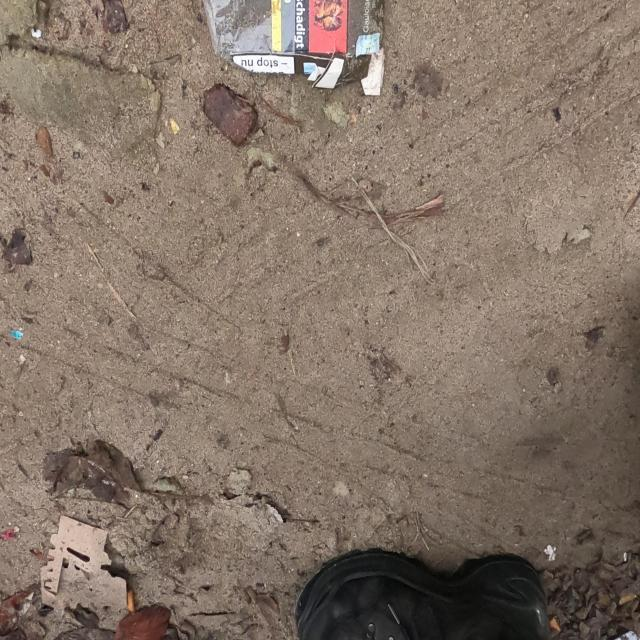Paper: (201, 0, 387, 98)
